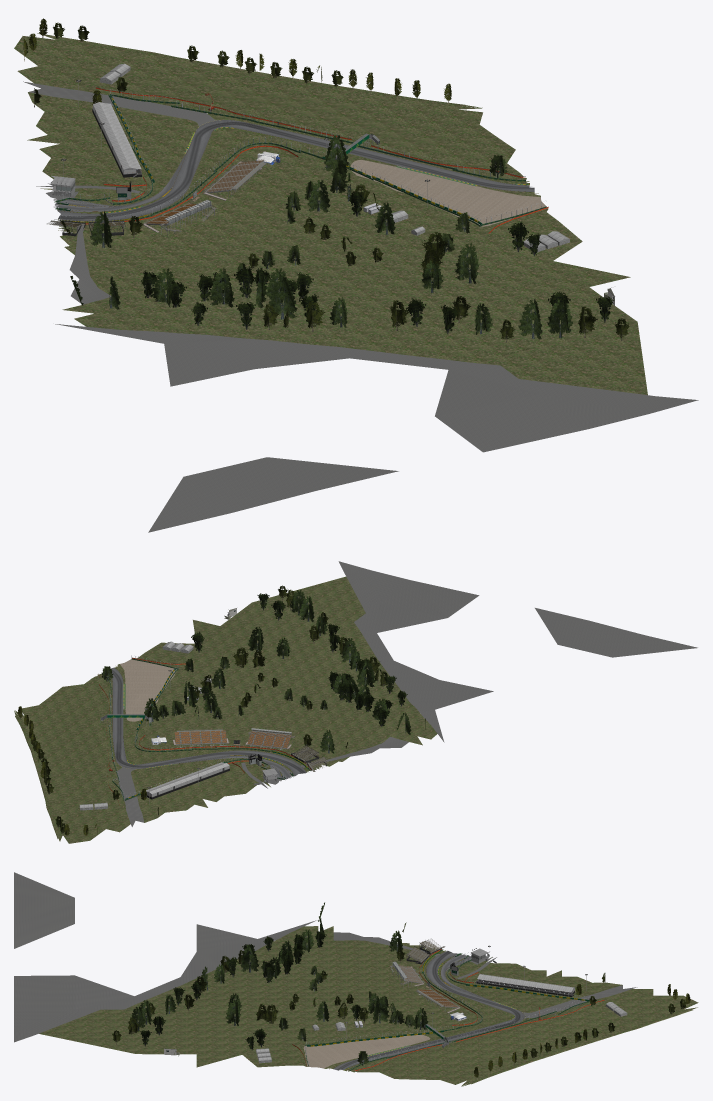
The picture shows the model from 3 angles, top to bottom: view 1: azimuth 30°, elevation 25°; view 2: azimuth 150°, elevation 25°; view 3: azimuth 270°, elevation 25°; orthographic projection. The views are drawn at different scales.
Parts seen in each view (by area): view 1: tile_t10; view 2: tile_t10; view 3: tile_t10.
Part boxes in pixels (left/top/right/bottom): tile_t10: left=14, top=18, right=698, bottom=532; tile_t10: left=14, top=561, right=697, bottom=843; tile_t10: left=14, top=872, right=698, bottom=1086.
Size of the model in its own units: 528 by 38.18 by 720.
45 materials, 45 textured.
